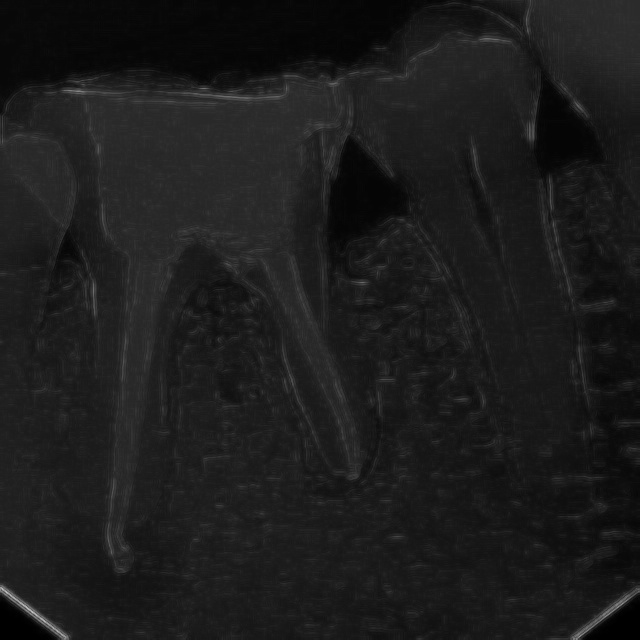Class 0- No endodontic treatment: (6, 52, 401, 596)
cavity: (318, 21, 633, 550)
